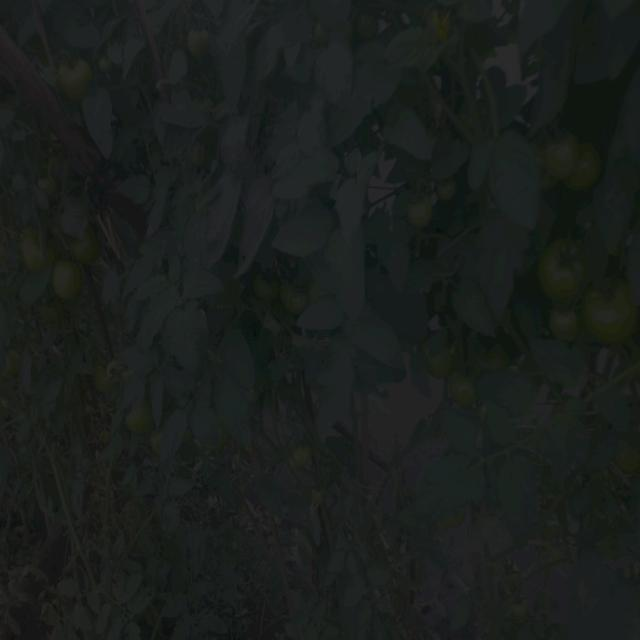tomato: (534, 236, 592, 301), (582, 287, 640, 341), (543, 296, 586, 348), (569, 137, 601, 190), (549, 125, 576, 181), (17, 226, 53, 266), (60, 56, 95, 96), (51, 262, 87, 300), (71, 226, 105, 261), (283, 283, 315, 319), (401, 201, 439, 231), (446, 380, 478, 410), (189, 27, 217, 58), (94, 361, 119, 393), (1, 344, 24, 378), (354, 12, 384, 38), (438, 179, 465, 207), (246, 278, 275, 298), (40, 171, 62, 197), (291, 444, 312, 471), (432, 354, 457, 376), (148, 425, 161, 456), (99, 54, 116, 70), (128, 414, 144, 429)
